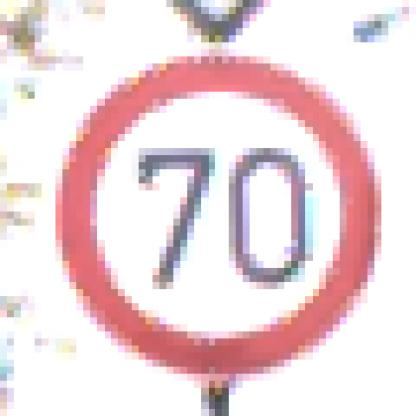Speed Limit 70: (59, 55, 378, 375)
